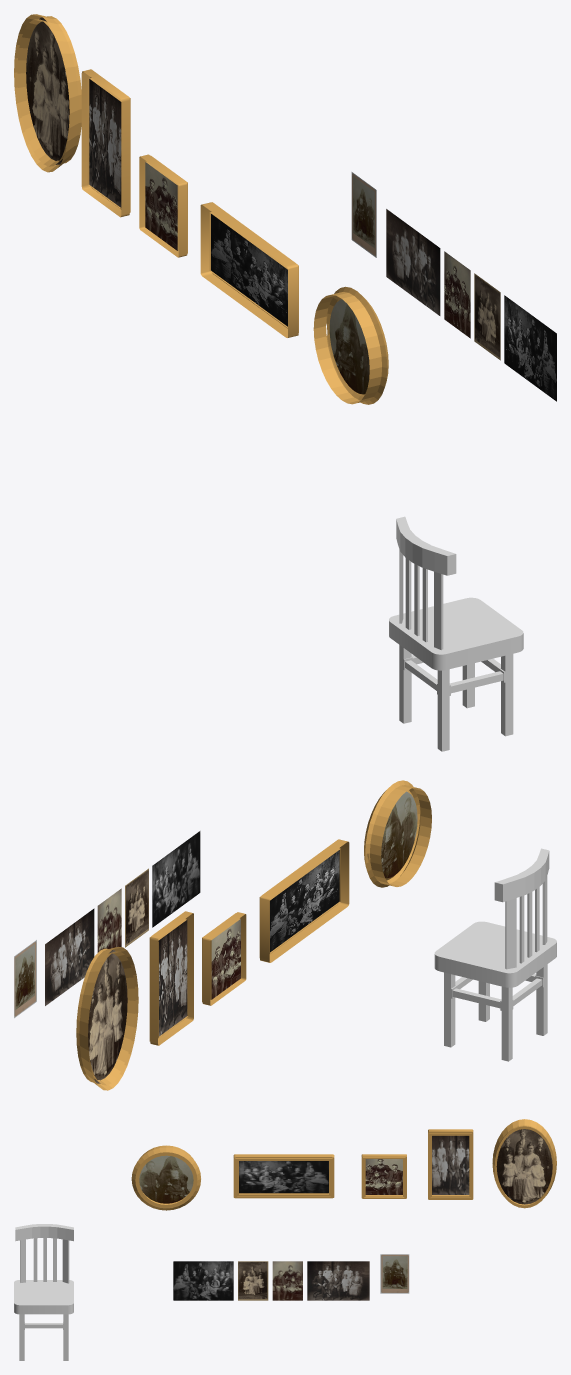
The model's file is woodenchair.fbx.
3 renders of one model, top to bottom at view 1: azimuth 30°, elevation 25°; view 2: azimuth 150°, elevation 25°; view 3: azimuth 270°, elevation 25°, orthographic. The views are drawn at different scales.
Visible parts, largest first — view 1: Cube.004, Cube.002, Circle.004, Plane.006, Circle.002, Circle.003, resim3, Plane.003, resim1, Plane.008, Plane.005, Circle.005 (+6 smaller); view 2: Cube.004, Cube.002, Circle.004, Plane.006, Circle.002, Circle.003, Plane.003, resim1, resim3, Plane.008, Plane.005, Circle.005 (+9 smaller); view 3: Circle.004, Plane.006, resim3, resim1, Plane.008, Circle.005, Cube.004, Plane.003, Circle.002, Plane.007, Circle.003, resim4 (+7 smaller).
Boxes of the visible parts, x1,y1,x2,y2 form: Cube.004: (389,597,523,670); Cube.002: (399,645,513,751); Circle.004: (26,17,69,164); Plane.006: (211,214,287,326); Circle.002: (313,286,388,404); Circle.003: (14,14,81,172); resim3: (386,209,440,315); Plane.003: (200,202,298,337); resim1: (504,295,556,401); Plane.008: (89,79,121,207); Plane.005: (81,69,130,217); Circle.005: (329,299,369,394); Cube.004: (434,921,556,987); Cube.002: (444,964,547,1061); Circle.004: (88,950,127,1083); Plane.006: (270,850,339,952); Circle.002: (364,780,431,887); Circle.003: (76,946,138,1090); Plane.003: (259,839,349,962); resim1: (152,831,200,927); resim3: (45,908,94,1005); Plane.008: (158,920,187,1036); Plane.005: (149,911,193,1045); Circle.005: (381,791,417,878); Circle.004: (496,1129,552,1204); Plane.006: (239,1161,328,1193); resim3: (307,1261,369,1300); resim1: (173,1261,233,1300); Plane.008: (432,1135,469,1194); Circle.005: (139,1155,193,1203); Cube.004: (14,1280,73,1314); Plane.003: (233,1154,334,1198); Circle.002: (131,1145,200,1210); Plane.007: (365,1159,402,1194); Circle.003: (492,1119,556,1208); resim4: (272,1261,302,1300).
Size of the model in its own units: 398 by 592 by 1252.
Materials: 12 (10 with a texture image).
